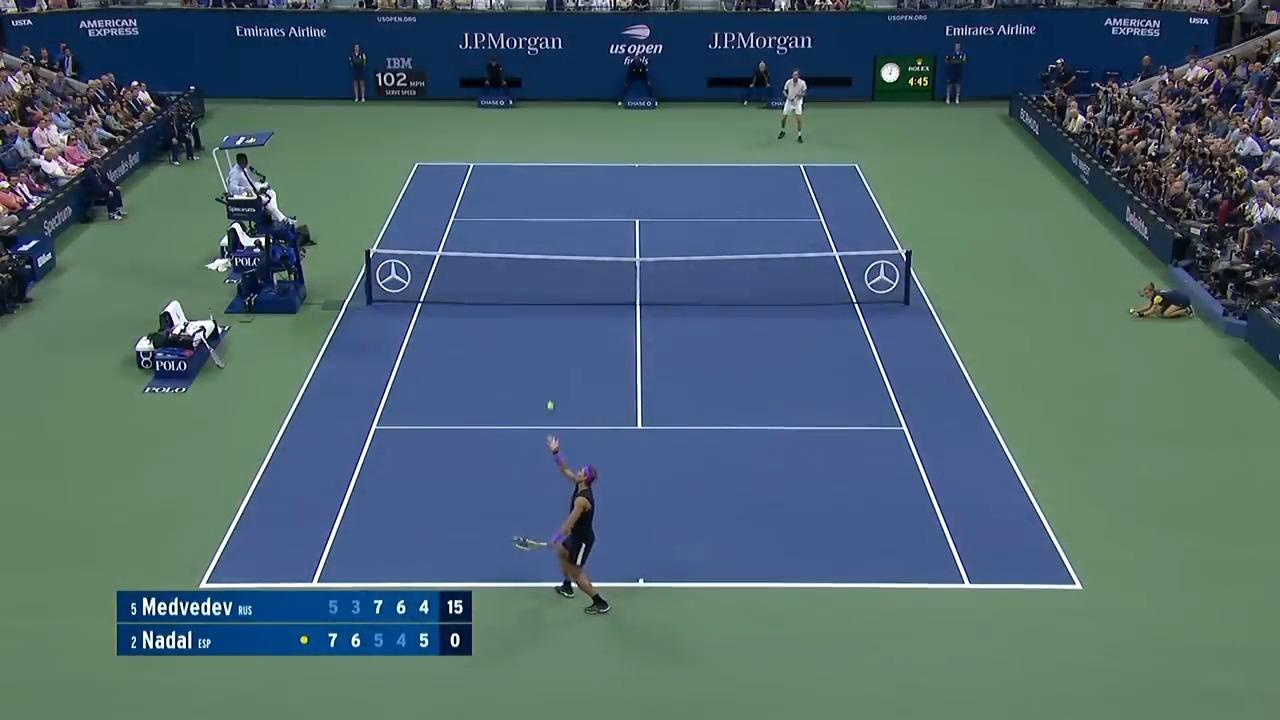tennis ball: (547, 400, 555, 410)
